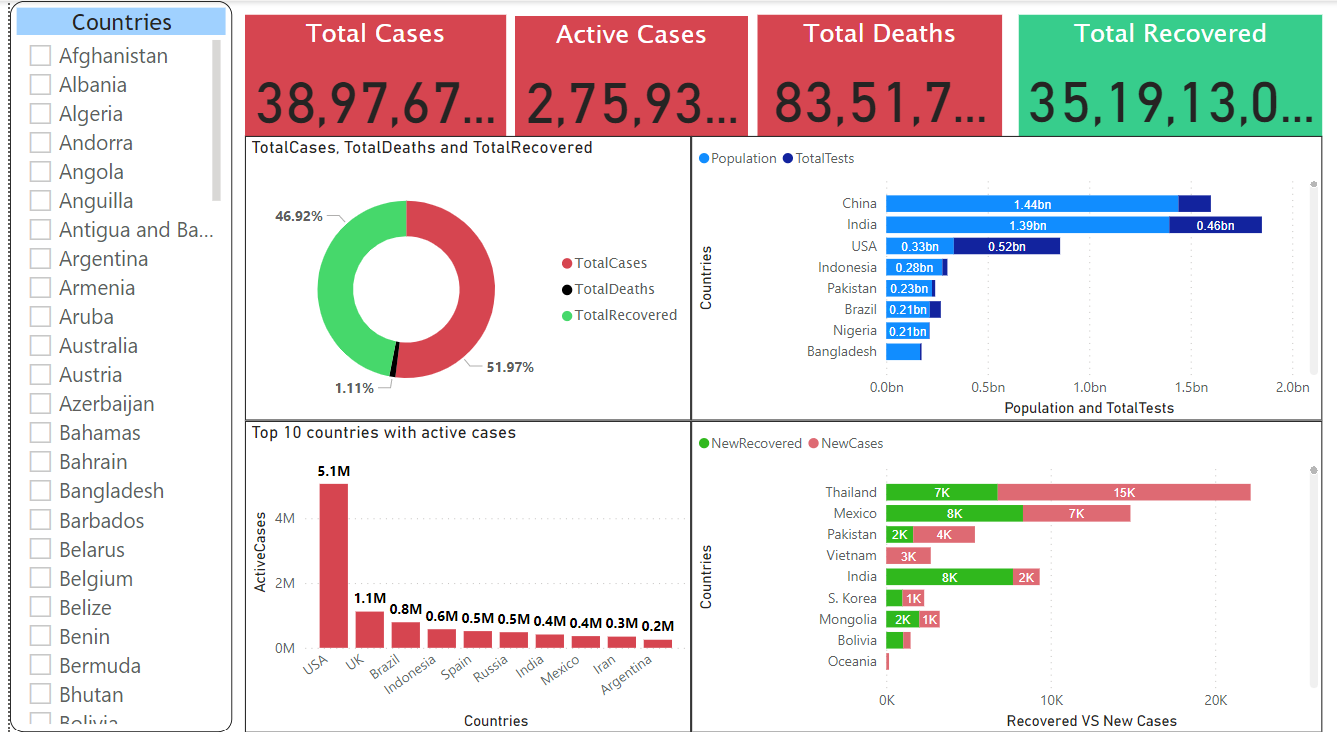

Layout of this report page (visuals, bound fields, positions):
{"tool":"powerbi","page":{"name":"Page 1","canvas":[1280,720],"ordinal":0},"visuals":[{"type":"card","title":"Total Cases","fields":{"Values":["Sum(Table 1.TotalCases)"]},"box":[226.3,13.3,251.7,118.6],"z":0},{"type":"slicer","title":"Countries","fields":{"Values":["Table 1.Country,Other"]},"box":[0,0,214.2,706.7],"z":1000},{"type":"card","title":"Active Cases","fields":{"Values":["Sum(Table 1.ActiveCases)"]},"box":[487.7,14.5,225.1,117.4],"z":2000},{"type":"card","title":"Total Deaths","fields":{"Values":["Sum(Table 1.TotalDeaths)"]},"box":[721.2,13.3,236,117.4],"z":3000},{"type":"card","title":"Total Recovered","fields":{"Values":["Sum(Table 1.TotalRecovered)"]},"box":[972.9,13.3,292.8,117.4],"z":4000},{"type":"donutChart","fields":{"Y":["Sum(Table 1.TotalCases)","Sum(Table 1.TotalDeaths)","Sum(Table 1.TotalRecovered)"]},"box":[226.3,130.7,430.8,274.7],"z":5000},{"type":"clusteredColumnChart","title":"Top 10 countries with active cases","fields":{"Category":["Table 1.Country,Other"],"Y":["Sum(Table 1.ActiveCases)"]},"box":[226.3,405.4,430.8,301.3],"z":6000},{"type":"barChart","fields":{"Category":["Table 1.Country,Other"],"Y":["Sum(Table 1.NewRecovered)","Sum(Table 1.NewCases)"]},"box":[657.1,405.4,608.7,301.3],"z":7000},{"type":"barChart","fields":{"Y":["Sum(Table 1.Population)","Sum(Table 1.TotalTests)"],"Category":["Table 1.Countries"]},"box":[657.1,130.7,608.7,274.7],"z":8000}]}

Visuals, with their boxes in screenshot pixels (x1, y1, x2, y2), scaled from the page's 1280x720 canvas onto the 1337x732 screenshot:
"Total Cases" card: 236:14:499:134
"Countries" slicer: 0:0:224:718
"Active Cases" card: 509:15:745:134
"Total Deaths" card: 753:14:1000:133
"Total Recovered" card: 1016:14:1322:133
donutChart - Sum(Table 1.TotalCases) x Sum(Table 1.TotalDeaths): 236:133:686:412
"Top 10 countries with active cases" clusteredColumnChart: 236:412:686:718
barChart - Table 1.Country,Other x Sum(Table 1.NewRecovered): 686:412:1322:718
barChart - Sum(Table 1.Population) x Sum(Table 1.TotalTests): 686:133:1322:412
